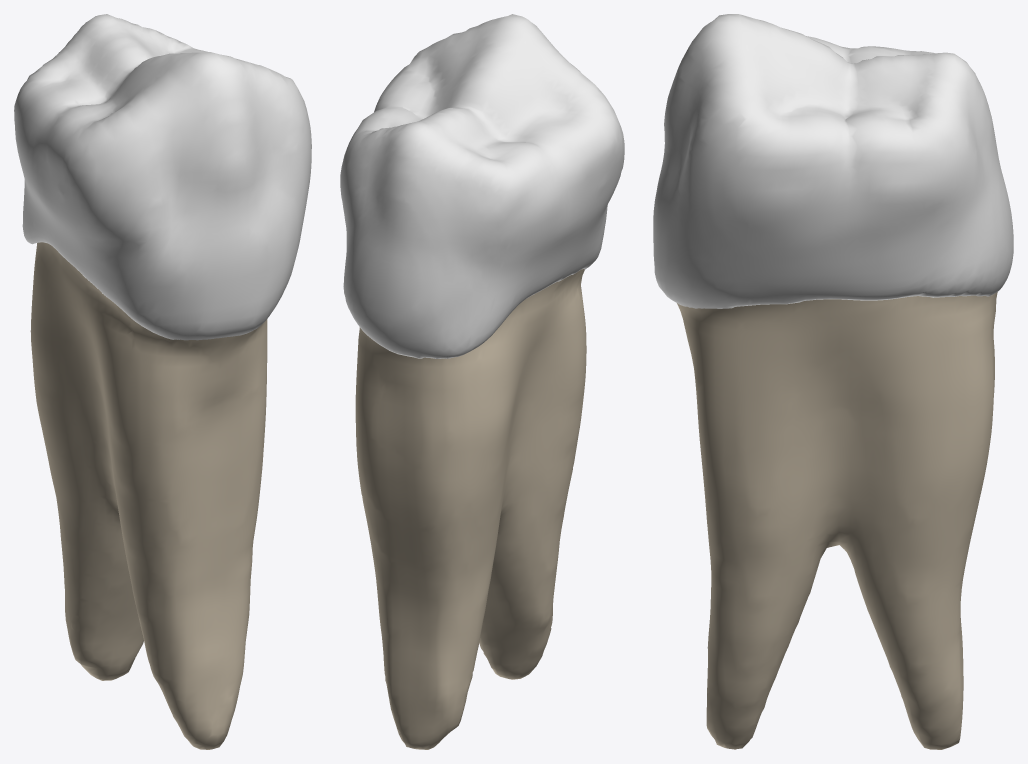
Rendered from SENTAL TEST2.glb.
3 renders of one model, left to right at view 1: azimuth 30°, elevation 25°; view 2: azimuth 150°, elevation 25°; view 3: azimuth 270°, elevation 25°, orthographic. The views are drawn at different scales.
Parts seen in each view (by area): view 1: material, material.001; view 2: material, material.001; view 3: material, material.001.
Part boxes in pixels (x1=…): material: x1=30, y1=242, x2=267, y2=749; material.001: x1=14, y1=14, x2=311, y2=340; material: x1=355, y1=269, x2=586, y2=749; material.001: x1=340, y1=14, x2=624, y2=358; material: x1=677, y1=292, x2=997, y2=749; material.001: x1=653, y1=14, x2=1013, y2=308.
Size of the model in its own units: 0.8389 by 2.39 by 1.07.
